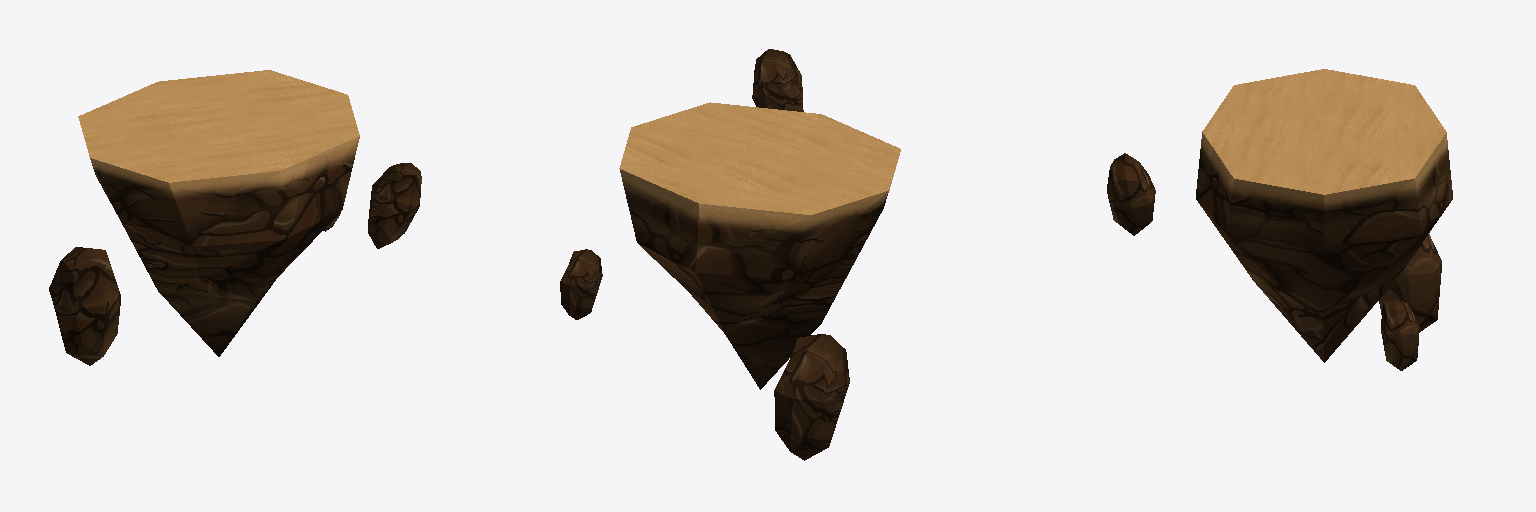
3 views of the same model, side by side, from view 1: azimuth 30°, elevation 25°; view 2: azimuth 150°, elevation 25°; view 3: azimuth 270°, elevation 25° (orthographic).
Visible parts, largest first — view 1: polySurface4, polySurface6 pCube5; view 2: polySurface4, polySurface6 pCube5; view 3: polySurface4, polySurface6 pCube5.
Boxes of the visible parts, x1=… form: polySurface4: x1=49, y1=136, x2=421, y2=365; polySurface6 pCube5: x1=78, y1=70, x2=359, y2=182; polySurface4: x1=560, y1=49, x2=889, y2=460; polySurface6 pCube5: x1=619, y1=102, x2=900, y2=214; polySurface4: x1=1107, y1=132, x2=1452, y2=370; polySurface6 pCube5: x1=1202, y1=69, x2=1445, y2=194.
Size of the model in its own units: 11.07 by 9.76 by 11.55.
2 materials, 2 textured.